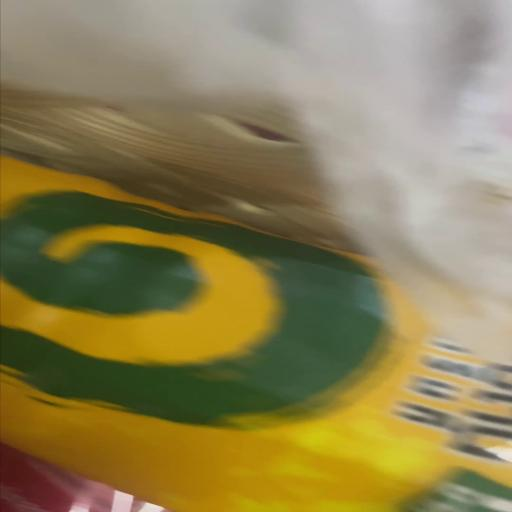street_golden_good: (1, 316, 472, 512)
